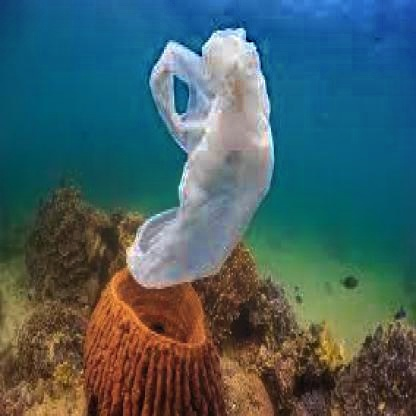pbag: (124, 19, 278, 301)
